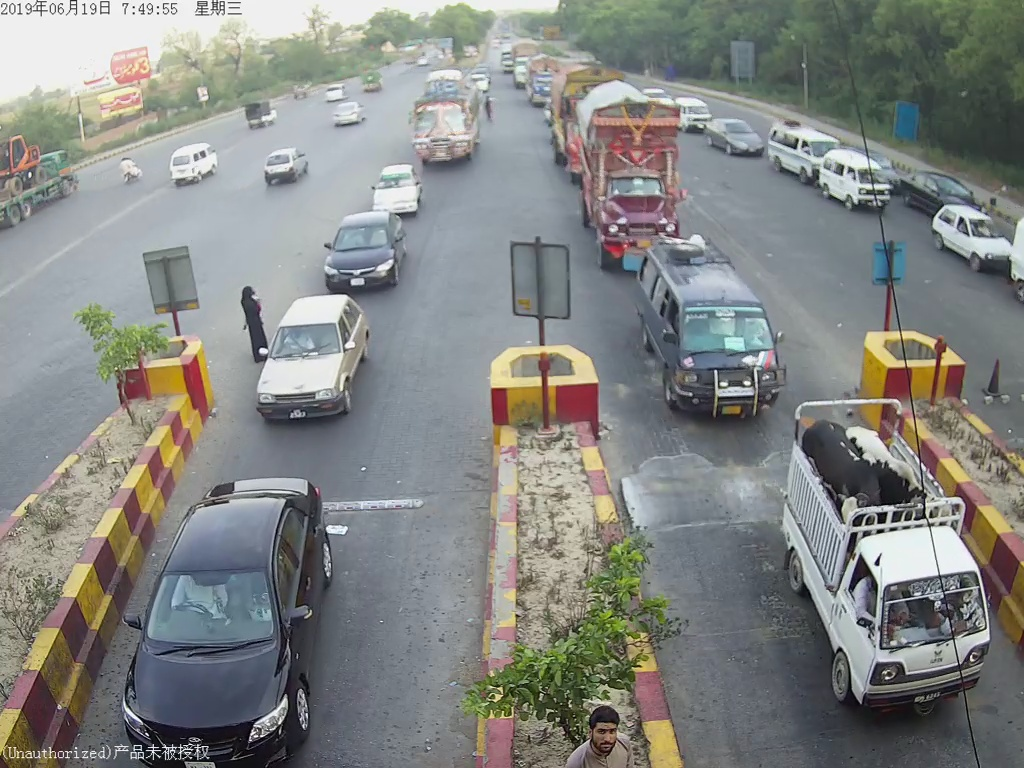Cat-1: (772, 391, 996, 715), (114, 465, 329, 756), (251, 280, 369, 418), (316, 205, 415, 293), (368, 155, 423, 216)
Cat-2: (637, 239, 788, 426)
Cat-3: (402, 62, 483, 161)
Cat-4: (573, 82, 685, 263)
